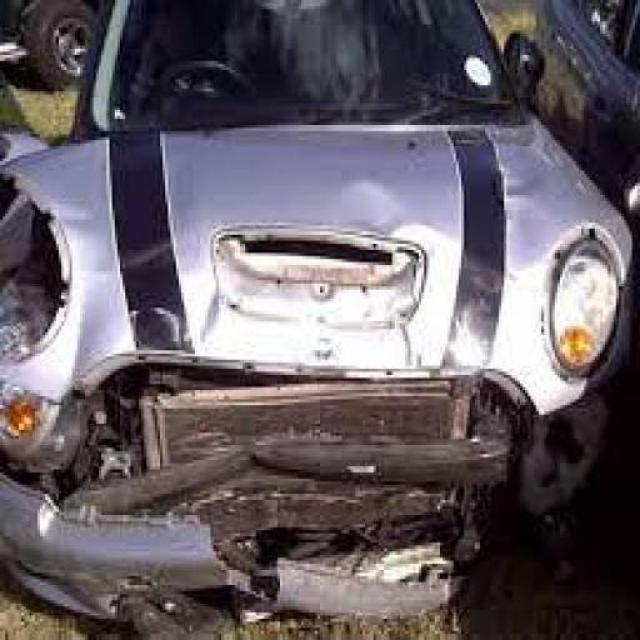crush: (7, 140, 620, 623)
shatter: (0, 174, 70, 361)
